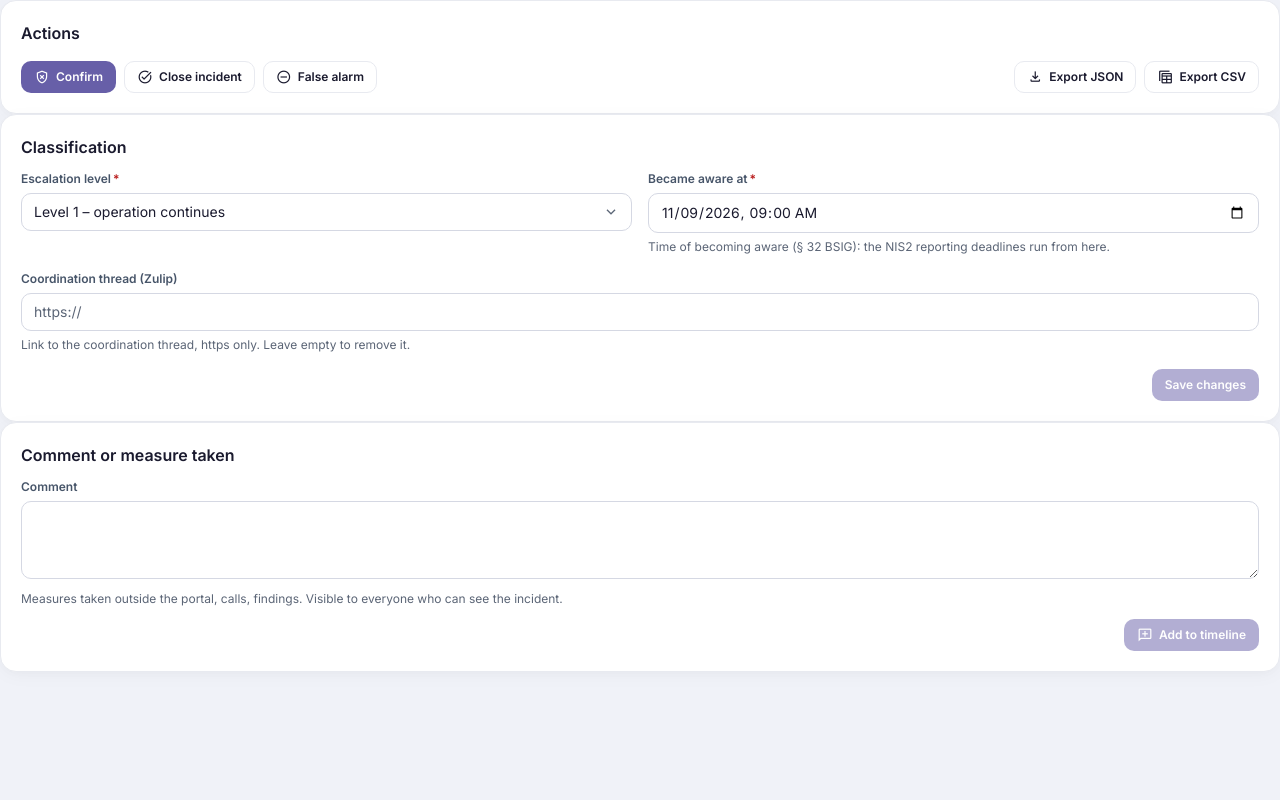
Test: IncidentAdminPanel › offers Confirm for a reported incident and opens the dialog
Step 1. Click the button "Confirm" → (69, 77), box x1=21 y1=61 x2=116 y2=93
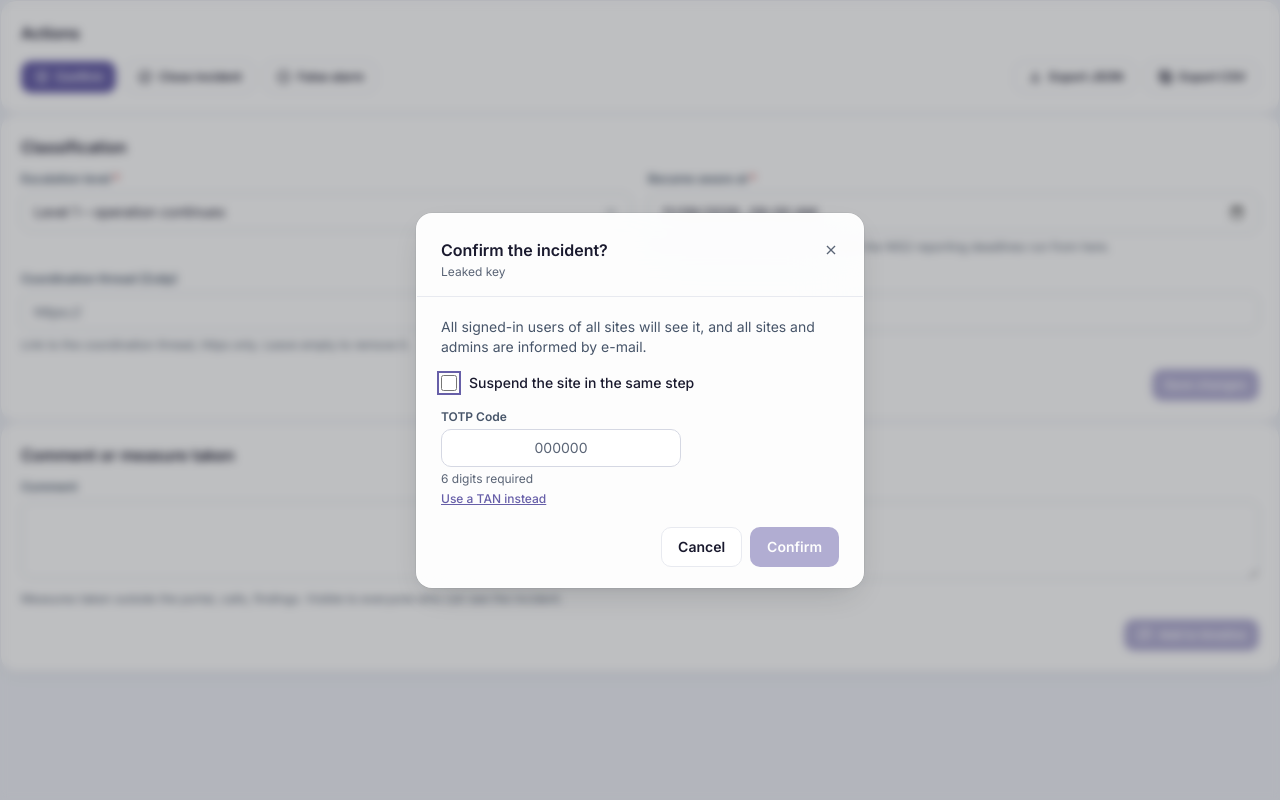
Expected: the heading "Confirm the incident?" is shown, x1=441 y1=238 x2=608 y2=262
